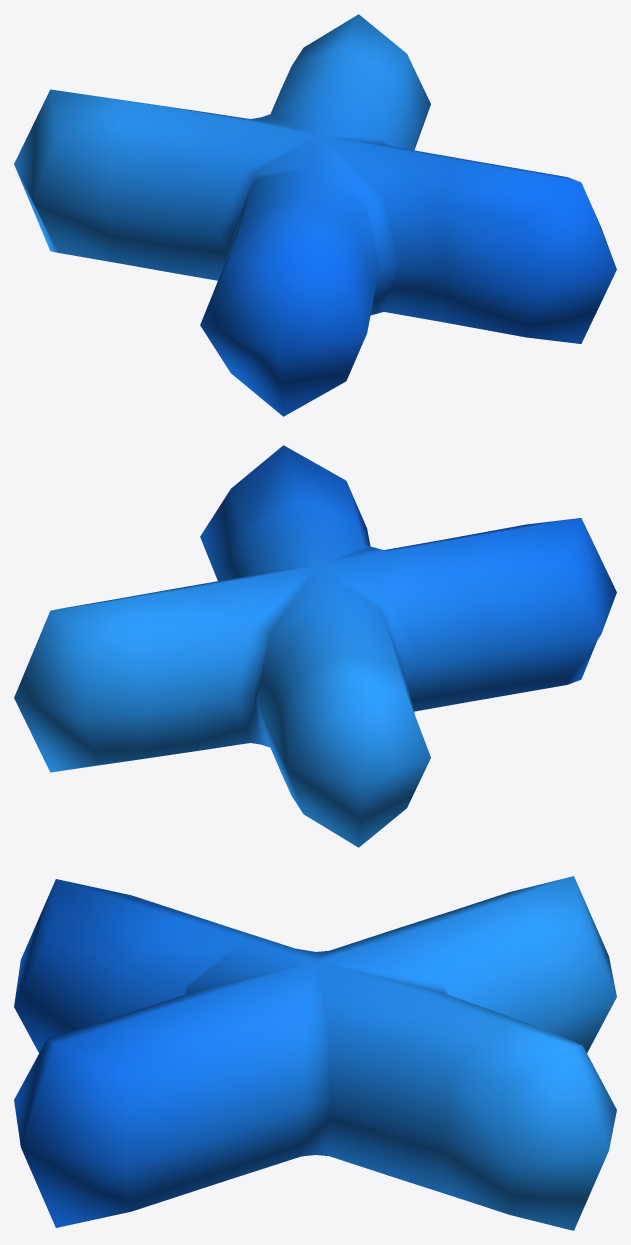
The model's file is CartoonFont_X.FBX.
The picture shows the model from 3 angles, top to bottom: view 1: azimuth 30°, elevation 25°; view 2: azimuth 150°, elevation 25°; view 3: azimuth 270°, elevation 25°; orthographic projection. The views are drawn at different scales.
Visible parts, largest first — view 1: X; view 2: X; view 3: X.
Boxes of the visible parts, x1,y1,x2,y2 form: X: (14, 14, 616, 416); X: (14, 445, 616, 847); X: (14, 876, 616, 1230).
Bounding box in the file's own units: 25.24 × 9.73 × 28.91.
1 material, 1 textured.
